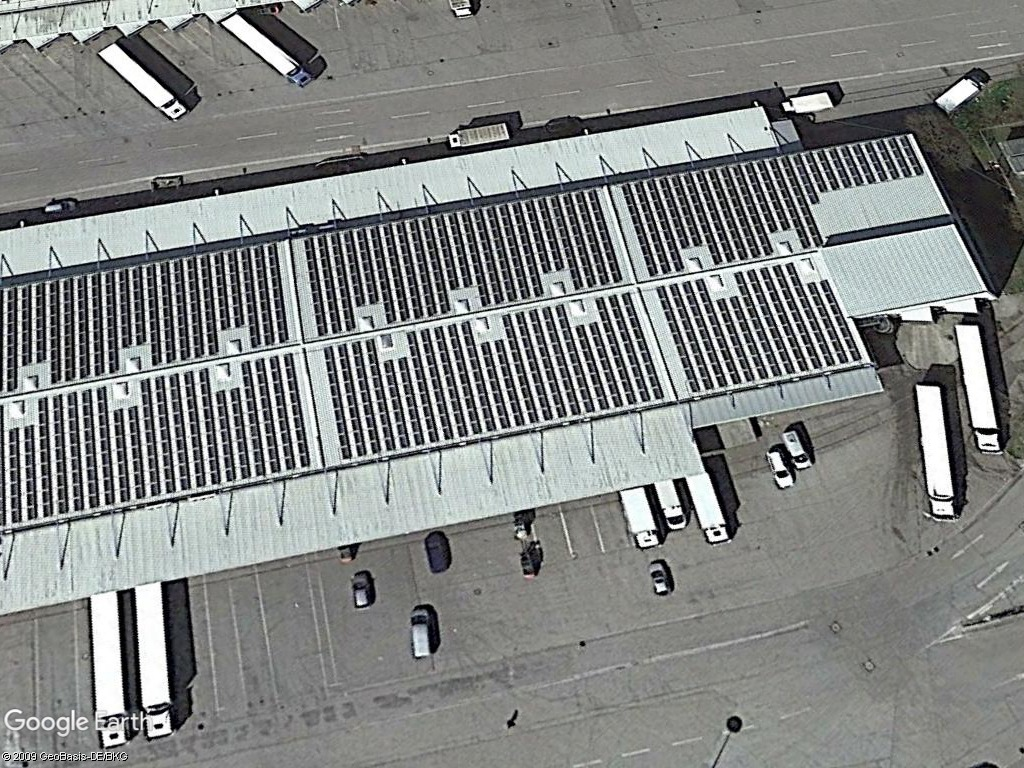car: (348, 569, 379, 615), (764, 445, 795, 488), (646, 556, 672, 597)
longvehicle: (81, 589, 133, 753), (217, 9, 317, 90), (93, 42, 189, 124), (911, 373, 961, 527), (128, 577, 174, 742), (950, 320, 1003, 460)
truck: (683, 467, 732, 544), (930, 68, 991, 117), (619, 482, 661, 553), (440, 117, 515, 155), (777, 87, 839, 119)
van: (406, 605, 435, 665), (777, 424, 814, 471)
